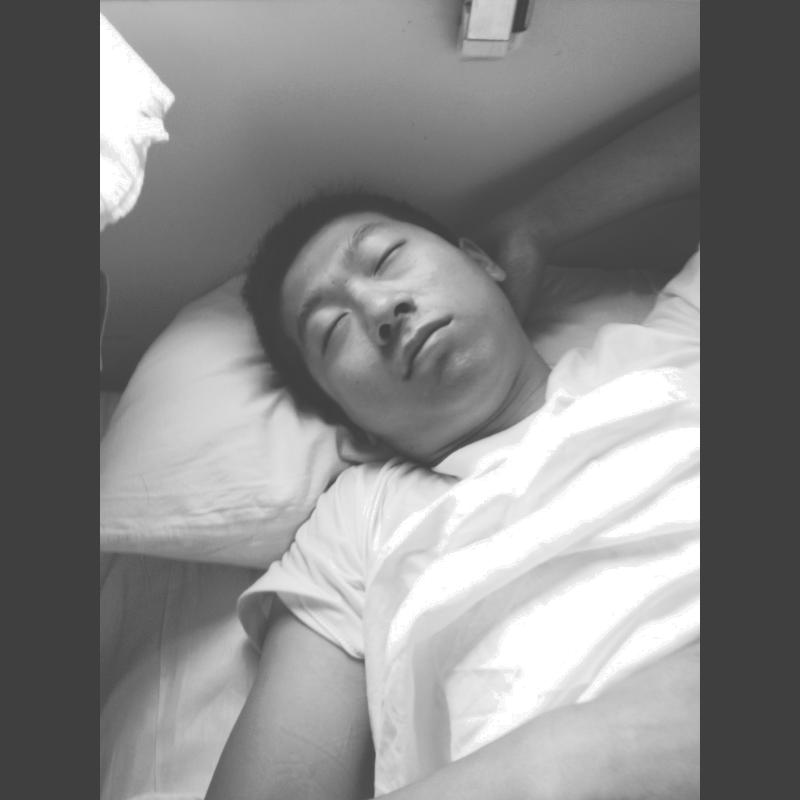pillow: (100, 272, 668, 570)
